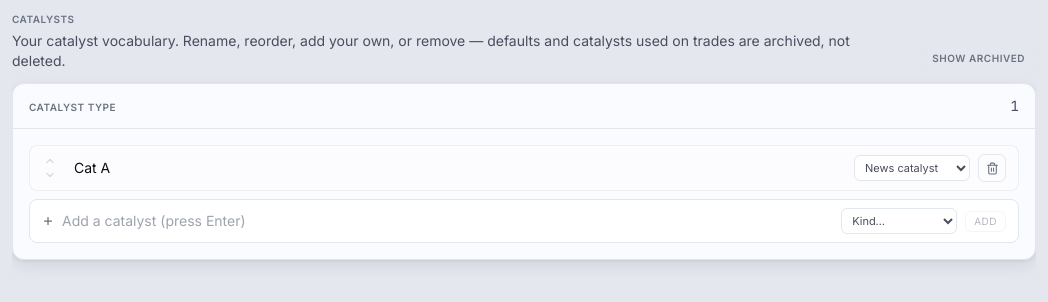
Scenario: VocabularyEditor — the SAME fix lands on Catalyst (it is the shared component) › an archive STILL shows the kept-in-history note
The width and height of the screenshot is (1048, 302).
Click the button named "Remove Cat A".
click(992, 168)  # box x1=978 y1=154 x2=1006 y2=182
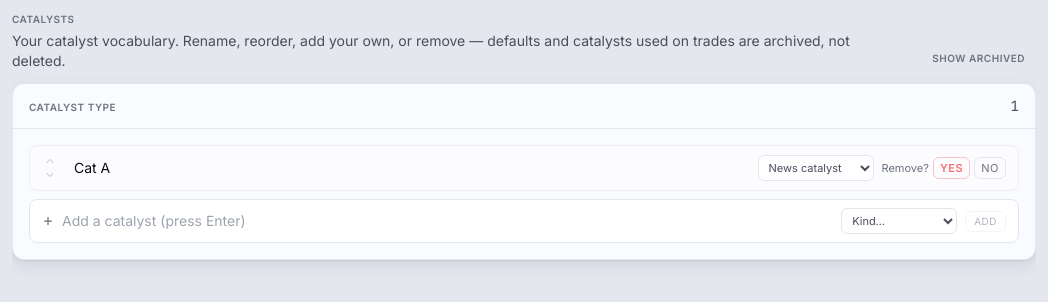
Click the button "Yes".
click(952, 168)  # box x1=933 y1=157 x2=970 y2=179
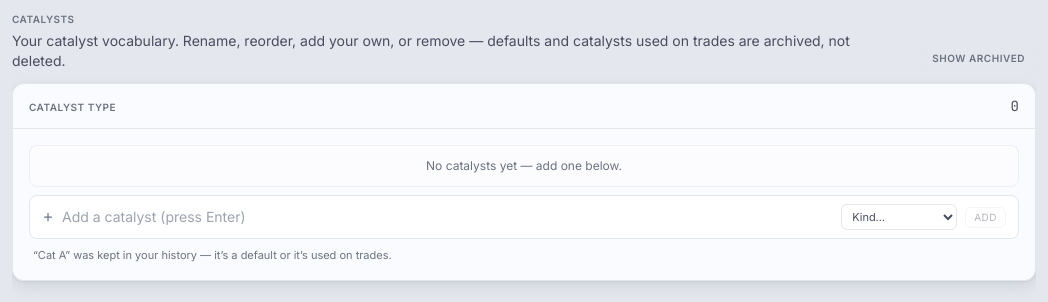
Check: the text "kept in your history" shows "Cat A", box x1=33 y1=248 x2=392 y2=262
